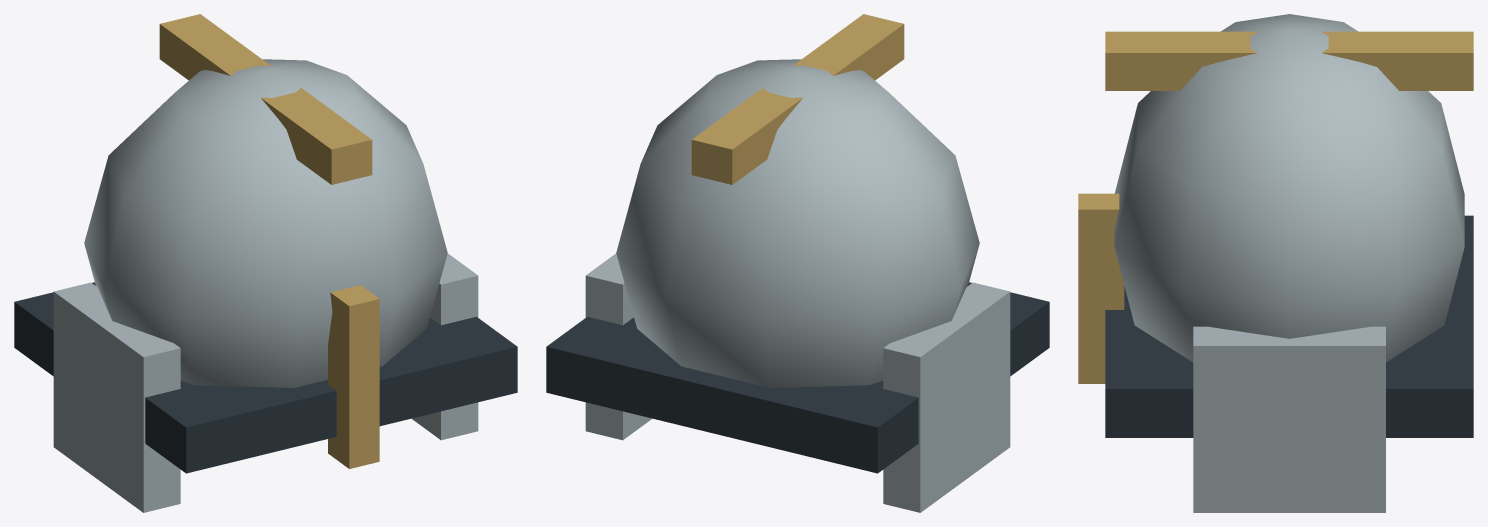
File: fixed-helm.glb
3 views of the same model, side by side, from view 1: azimuth 30°, elevation 25°; view 2: azimuth 150°, elevation 25°; view 3: azimuth 270°, elevation 25° (orthographic). The views are drawn at different scales.
Visible parts, largest first — view 1: piece_whole; view 2: piece_whole; view 3: piece_whole.
Boxes of the visible parts, x1=… form: piece_whole: x1=14, y1=14, x2=517, y2=512; piece_whole: x1=546, y1=14, x2=1049, y2=512; piece_whole: x1=1078, y1=14, x2=1473, y2=512.
Size of the model in its own units: 0.495 by 0.52 by 0.4725.
